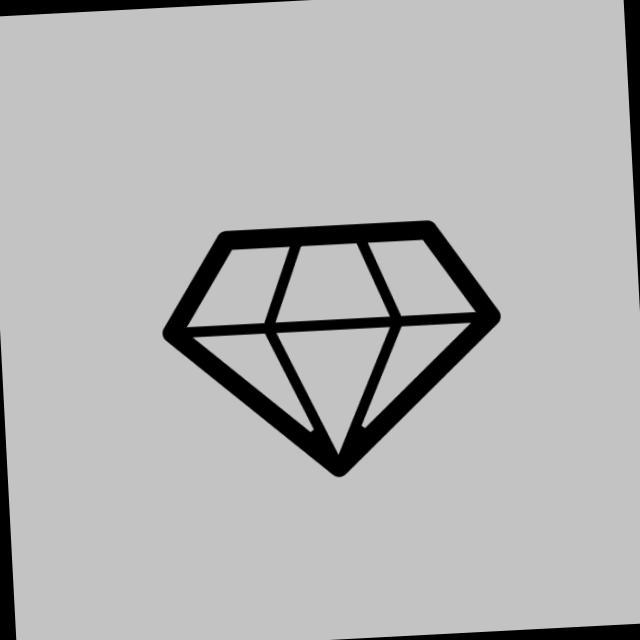diamond: (152, 212, 515, 495)
